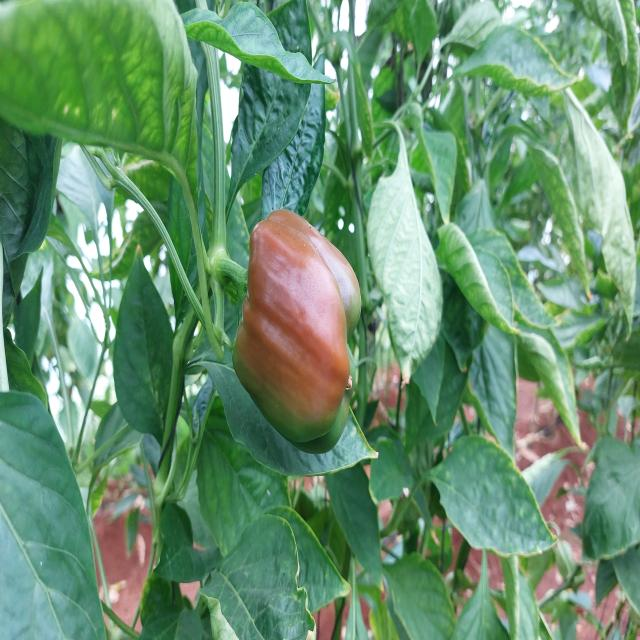BrownishRed--Can-be-Harvested: (234, 221, 364, 445)
